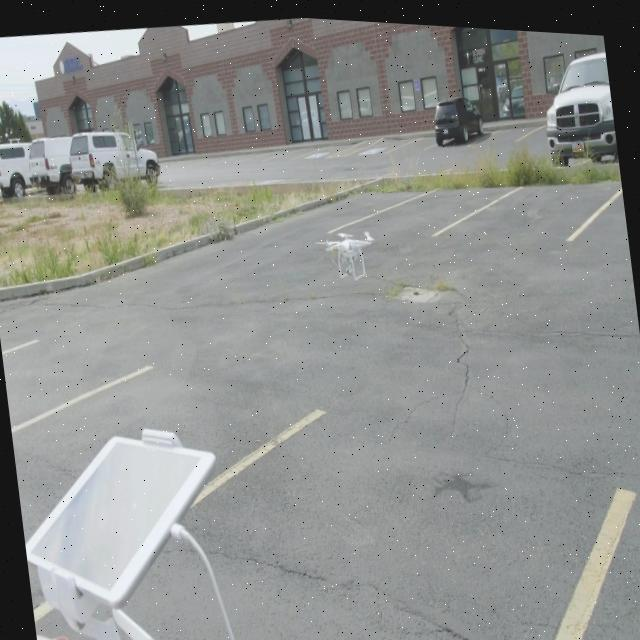drone: (321, 220, 376, 281)
